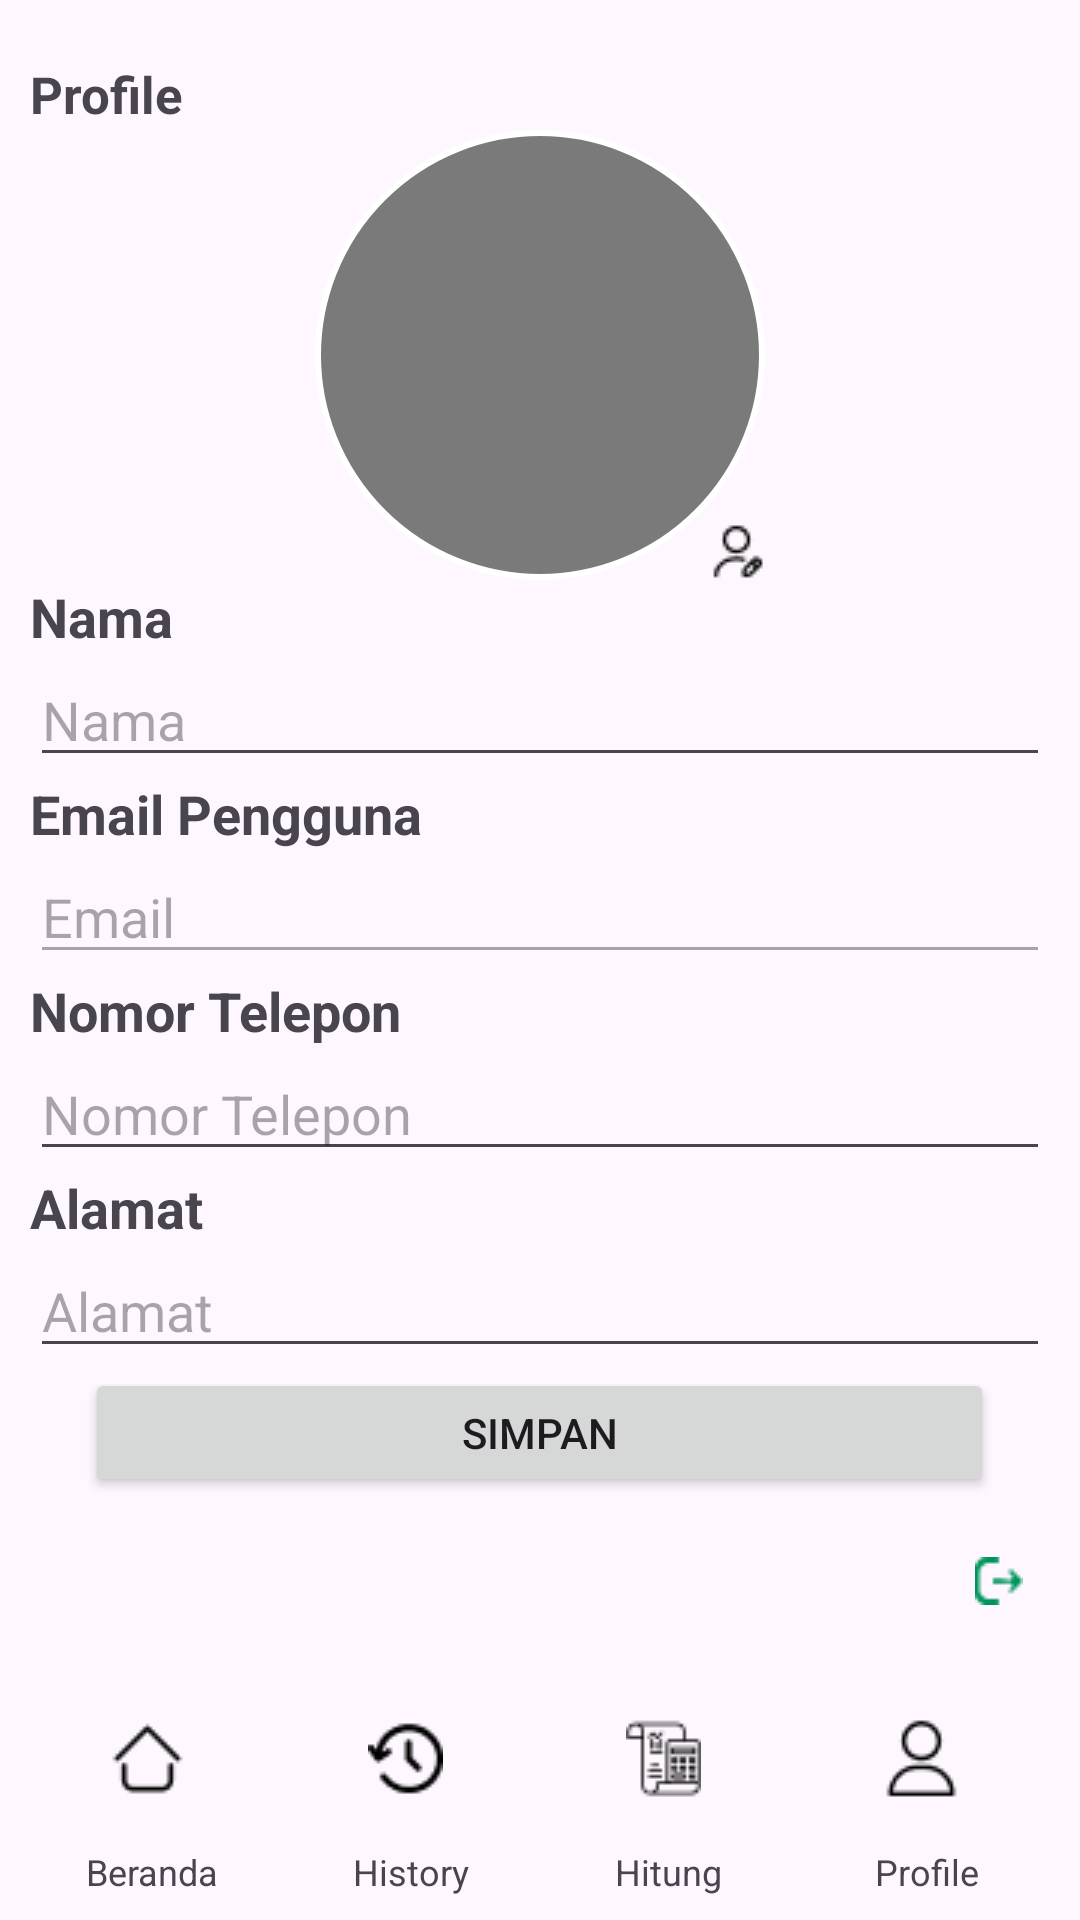

Locate icon controls on the screen. Image size 1080×1920, boxes as [x1, y1, x2, y2].
calculate: [626, 1720, 701, 1797]
edit: [713, 525, 763, 578]
home: [112, 1723, 183, 1794]
